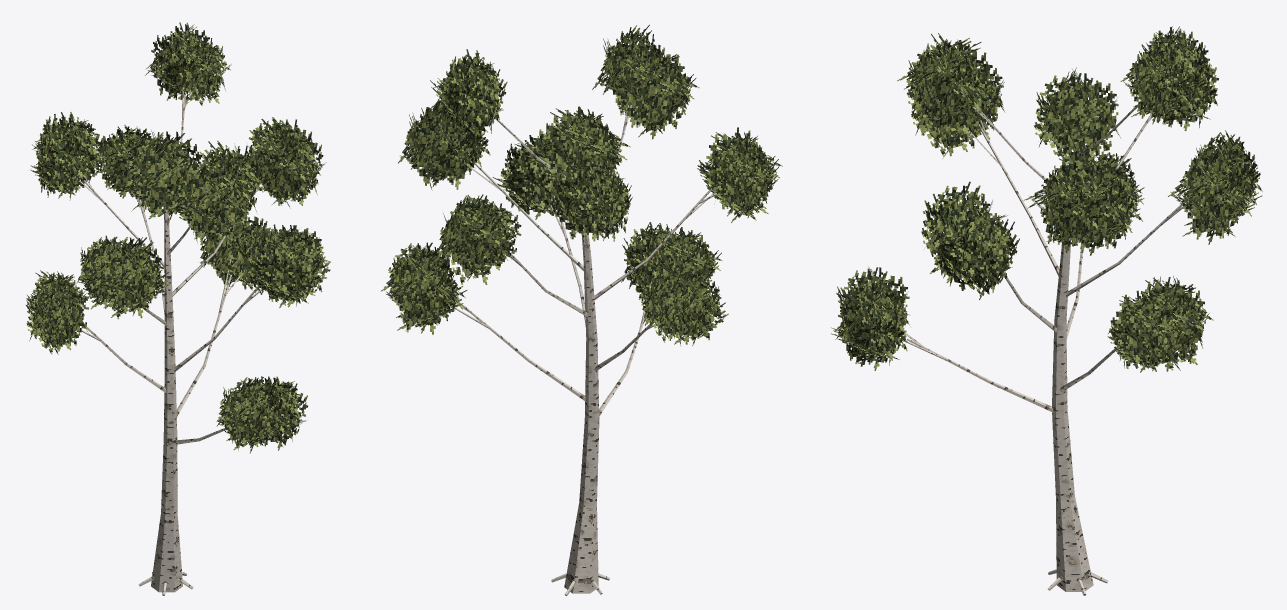
The model's file is TREE_Birch_Green_A_LOD1.glb.
3 renders of one model, left to right at view 1: azimuth 30°, elevation 25°; view 2: azimuth 150°, elevation 25°; view 3: azimuth 270°, elevation 25°, orthographic. The views are drawn at different scales.
Parts seen in each view (by area): view 1: TREE_Birch_Green_A_LOD1__Card, TREE_Birch_Green_A_LOD1__Bark, TREE_Birch_Green_A_LOD1__Foliage; view 2: TREE_Birch_Green_A_LOD1__Card, TREE_Birch_Green_A_LOD1__Bark, TREE_Birch_Green_A_LOD1__Foliage; view 3: TREE_Birch_Green_A_LOD1__Card, TREE_Birch_Green_A_LOD1__Bark, TREE_Birch_Green_A_LOD1__Foliage.
Boxes of the visible parts, x1,y1,x2,y2 form: TREE_Birch_Green_A_LOD1__Card: [26, 22, 330, 453]; TREE_Birch_Green_A_LOD1__Bark: [74, 82, 263, 595]; TREE_Birch_Green_A_LOD1__Foliage: [45, 49, 303, 429]; TREE_Birch_Green_A_LOD1__Card: [381, 24, 782, 345]; TREE_Birch_Green_A_LOD1__Bark: [448, 91, 716, 595]; TREE_Birch_Green_A_LOD1__Foliage: [408, 54, 753, 321]; TREE_Birch_Green_A_LOD1__Card: [831, 26, 1262, 372]; TREE_Birch_Green_A_LOD1__Bark: [900, 101, 1198, 595]; TREE_Birch_Green_A_LOD1__Foliage: [859, 56, 1235, 347].
Size of the model in its own units: 7.21 by 11.69 by 8.1.
3 materials, 3 textured.
